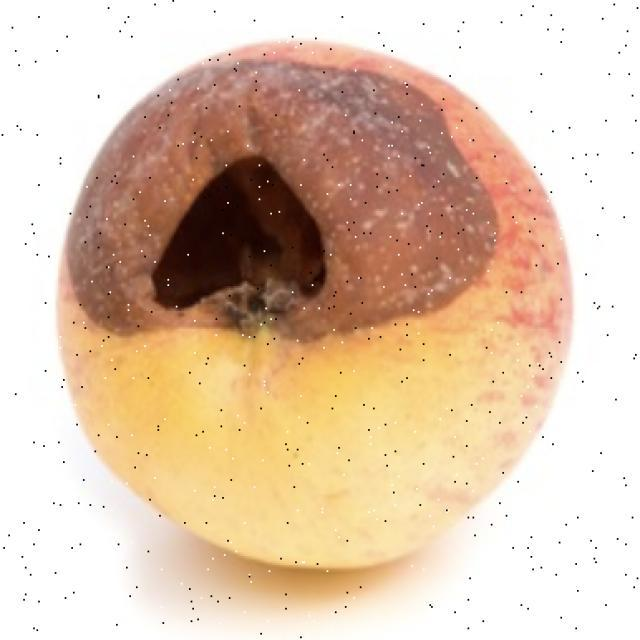Rotten: (63, 35, 595, 590)
